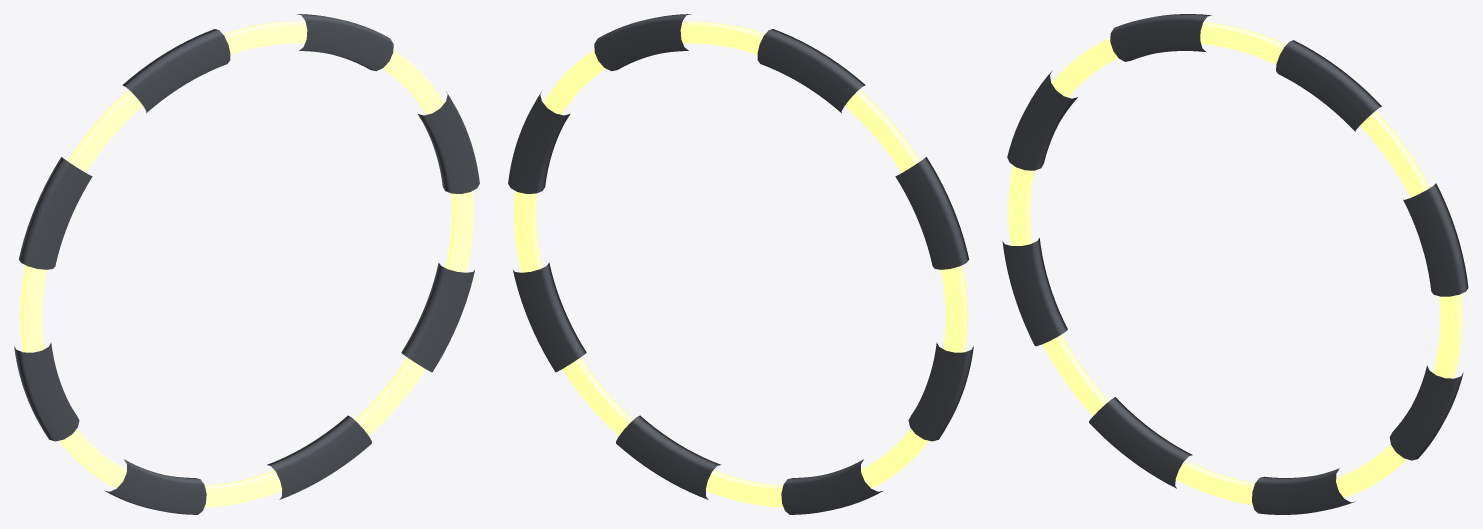
3 views of the same model, side by side, from view 1: azimuth 30°, elevation 25°; view 2: azimuth 150°, elevation 25°; view 3: azimuth 330°, elevation 25° (orthographic).
Visible parts, largest first — view 1: Gate housing, Gate core; view 2: Gate housing, Gate core; view 3: Gate housing, Gate core.
Boxes of the visible parts, left/top/right/bottom form: Gate housing: left=14, top=14, right=479, bottom=514; Gate core: left=20, top=21, right=473, bottom=507; Gate housing: left=508, top=14, right=973, bottom=514; Gate core: left=514, top=21, right=967, bottom=507; Gate housing: left=1002, top=14, right=1468, bottom=514; Gate core: left=1008, top=22, right=1462, bottom=504.
Bounding box in the file's own units: 38.42 × 38.42 × 2.7.
